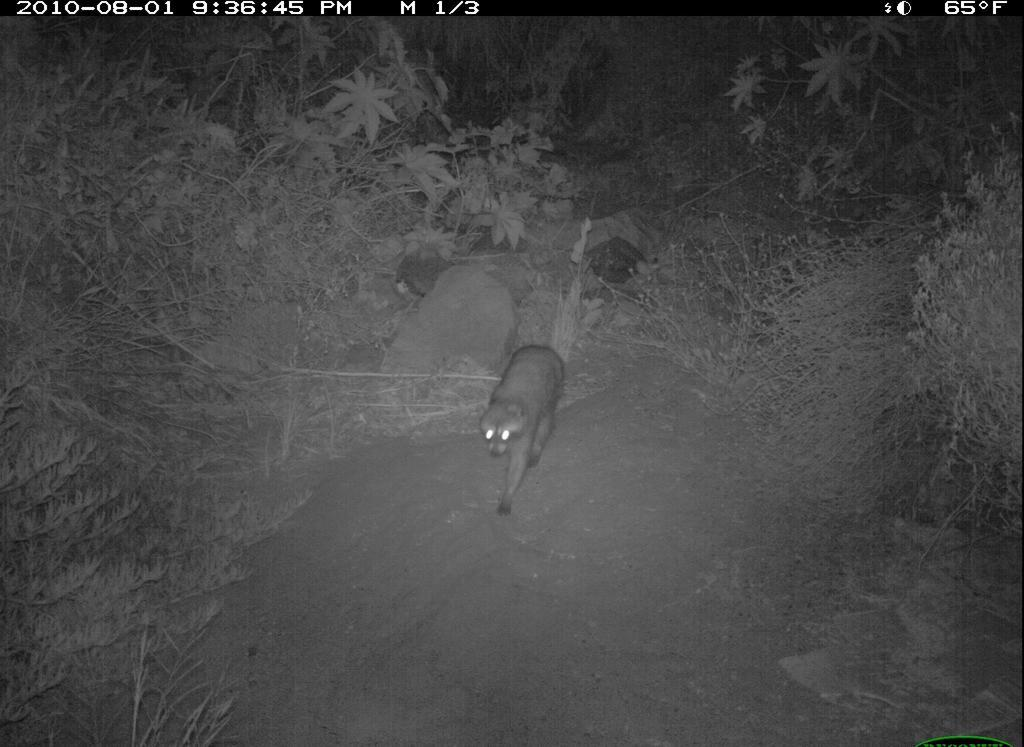raccoon: (475, 338, 587, 521)
